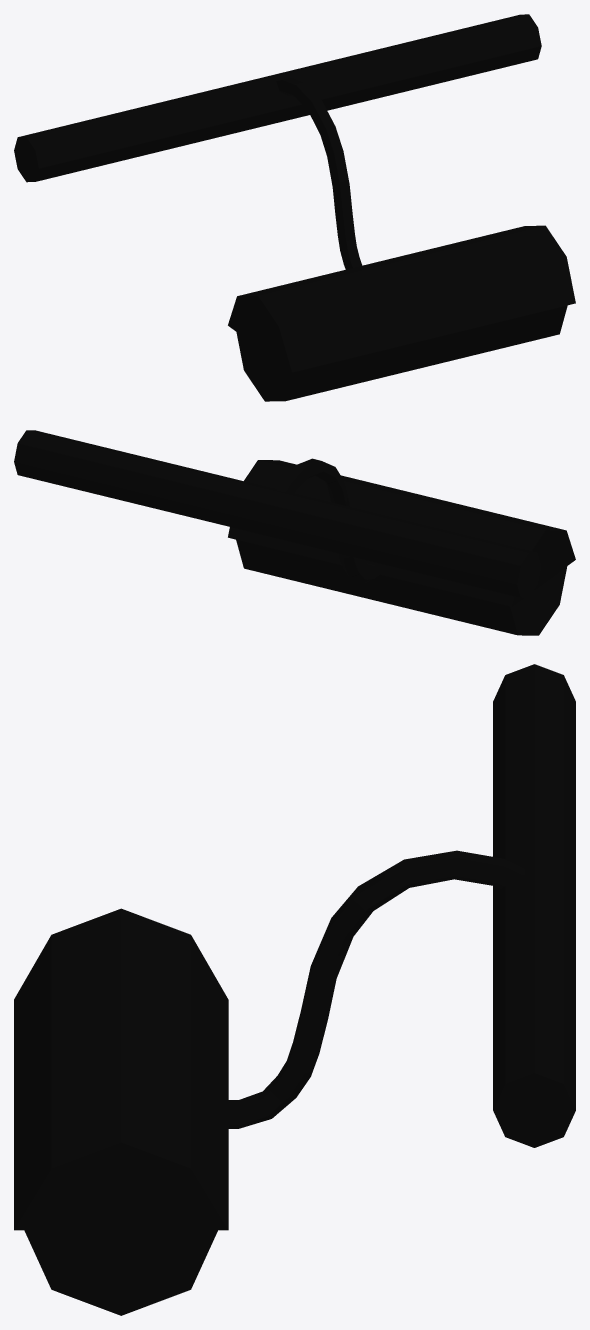
Rendered from GalleryLightB_Off.glb.
The picture shows the model from 3 angles, top to bottom: view 1: azimuth 30°, elevation 25°; view 2: azimuth 150°, elevation 25°; view 3: azimuth 270°, elevation 25°; orthographic projection. The views are drawn at different scales.
Visible parts, largest first — view 1: galleryLightB_Off; view 2: galleryLightB_Off; view 3: galleryLightB_Off.
Boxes of the visible parts, box(x1,y1,x2,y2) form: galleryLightB_Off: box(14, 14, 575, 401); galleryLightB_Off: box(14, 430, 575, 635); galleryLightB_Off: box(14, 664, 575, 1315).
Bounding box in the file's own units: 0.4998 × 0.1995 × 0.2903.
1 material, 1 textured.
